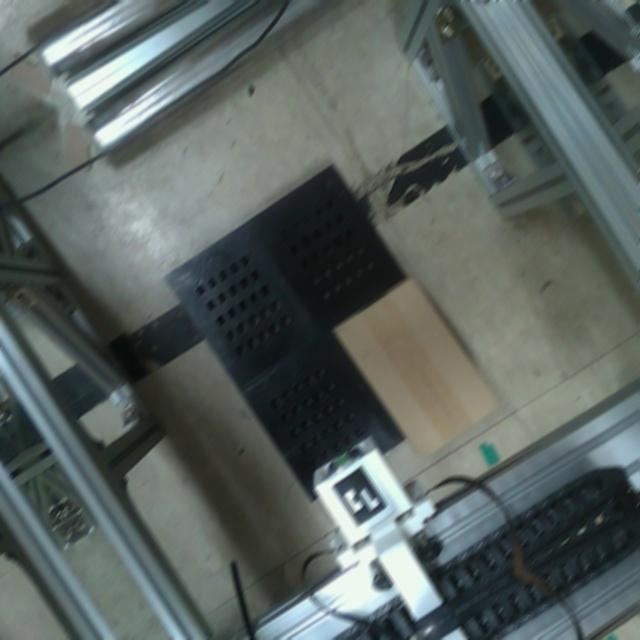box: (326, 267, 512, 471)
